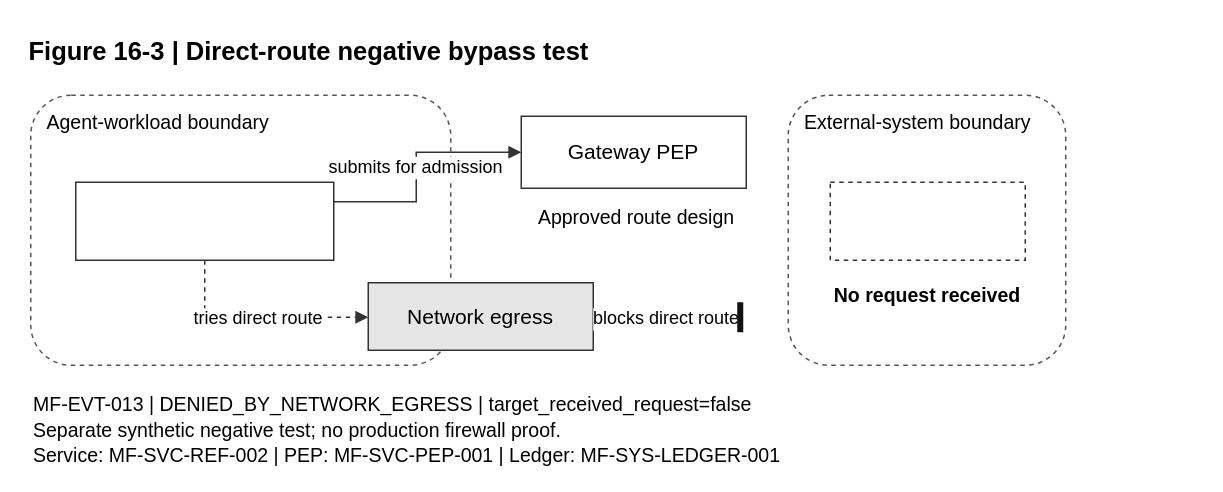
This 1223x492 diagram has some shape labels left out. Each missing label, with the centre of its shape:
"Refund ledger" belongs at pixel 927 220.
"Refund service" belongs at pixel 204 220.
